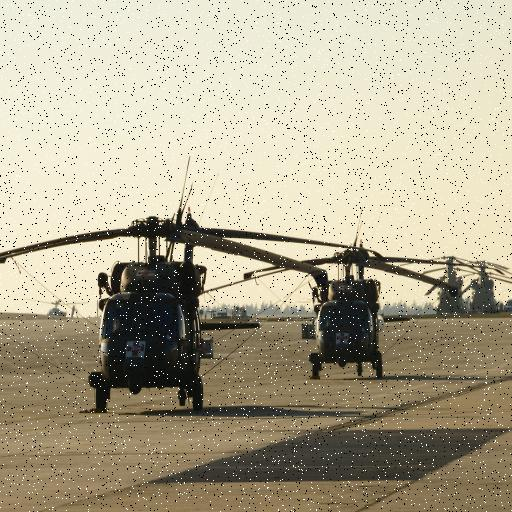helicopter: (1, 218, 232, 406), (218, 223, 432, 384), (427, 252, 468, 317), (470, 260, 512, 314)
